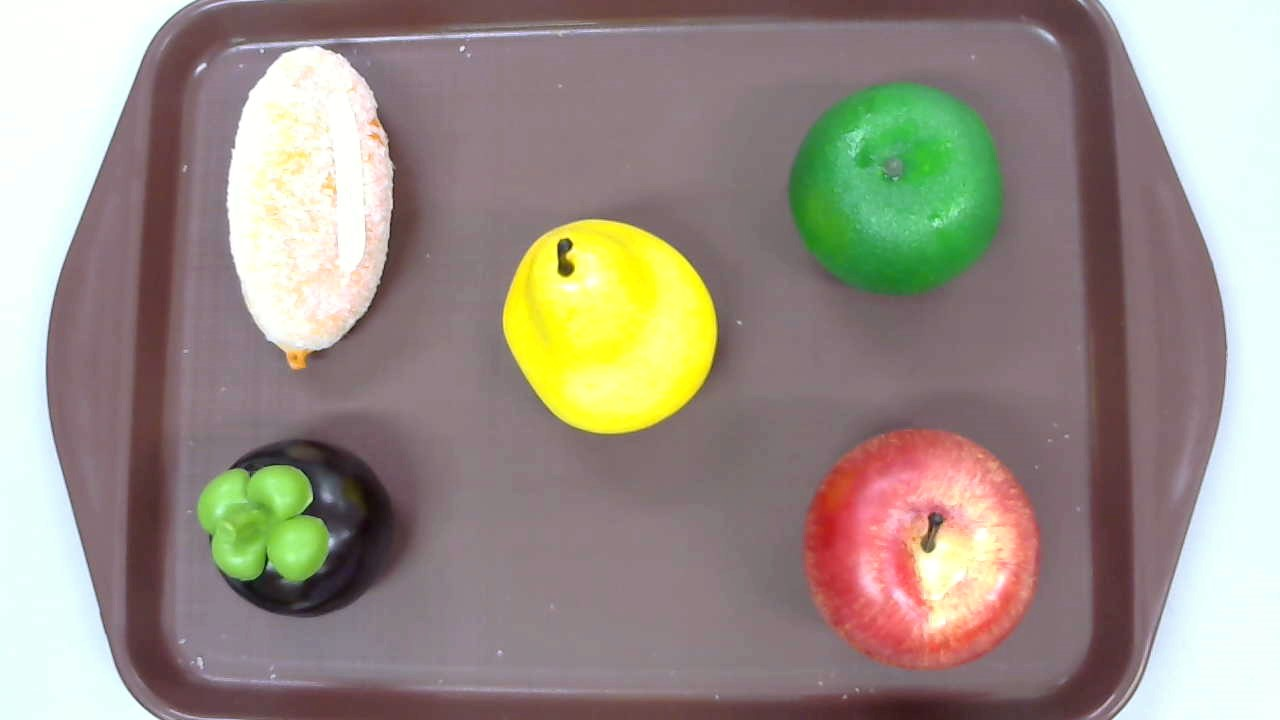coconut: (225, 45, 393, 372)
green orange: (788, 83, 1002, 297)
mangosteen: (197, 439, 397, 619)
red apple: (802, 427, 1042, 672)
yellow pear: (501, 219, 718, 435)
